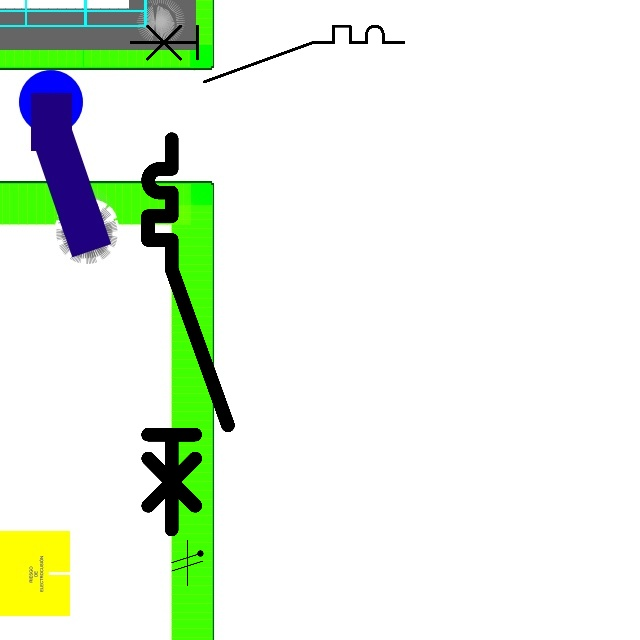interruptor_termomagnetico: (138, 129, 238, 539), (124, 19, 411, 89)
